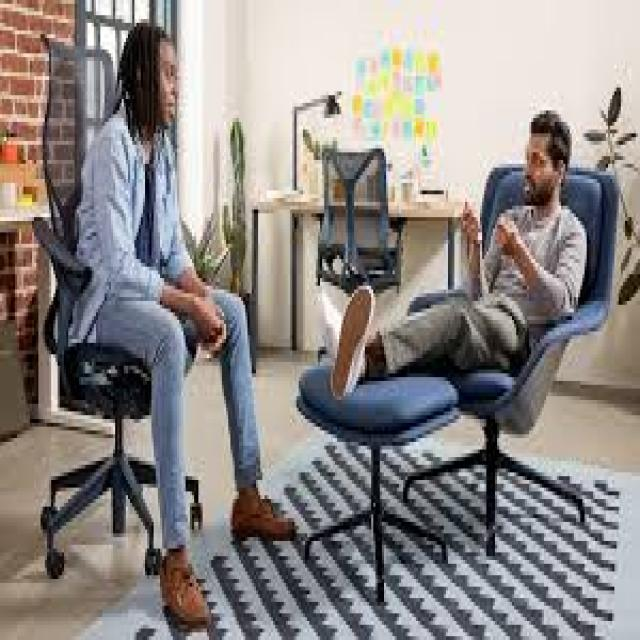chair: (14, 20, 221, 620), (396, 117, 636, 576), (262, 103, 421, 322)
